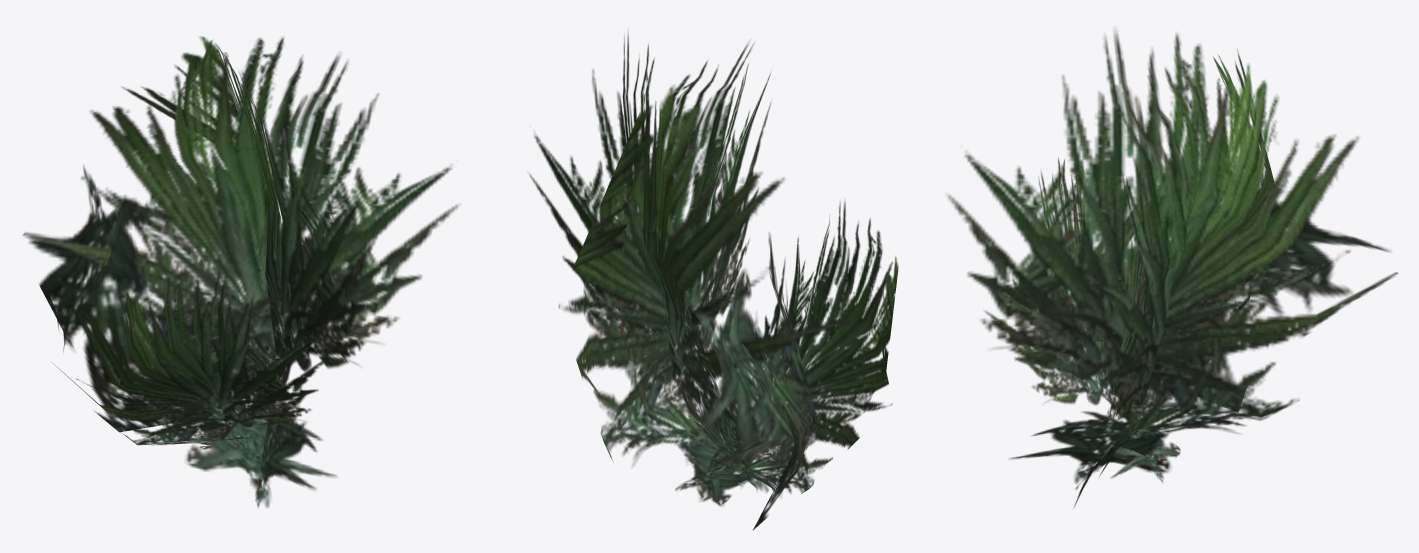
File: palmito1.glb
3 renders of one model, left to right at view 1: azimuth 30°, elevation 25°; view 2: azimuth 150°, elevation 25°; view 3: azimuth 270°, elevation 25°, orthographic. The views are drawn at different scales.
Visible parts, largest first — view 1: plantas1; view 2: plantas1; view 3: plantas1.
Part boxes in pixels (bbox=[...]): plantas1: bbox=[22, 36, 458, 508]; plantas1: bbox=[529, 33, 898, 530]; plantas1: bbox=[948, 31, 1398, 507].
Size of the model in its own units: 0.9402 by 1.06 by 0.9289.
1 material, 1 textured.
